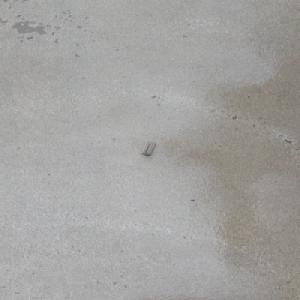MetalPart: (137, 142, 156, 157)
